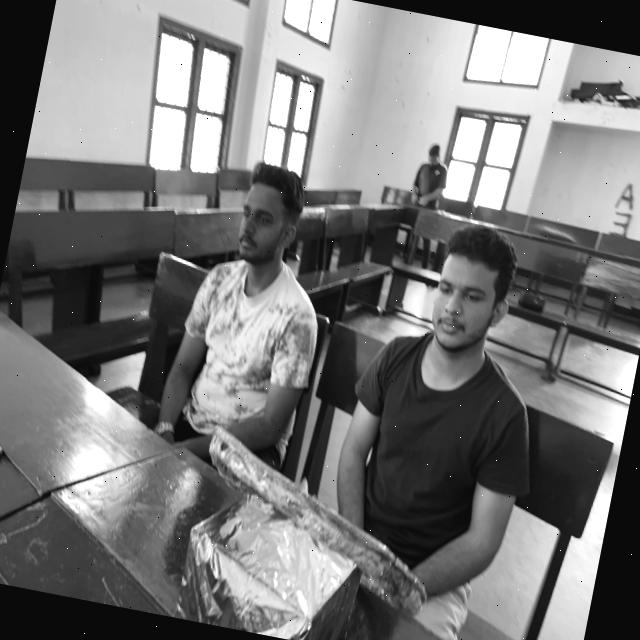Helmet: (327, 322, 564, 575), (140, 248, 332, 468)
